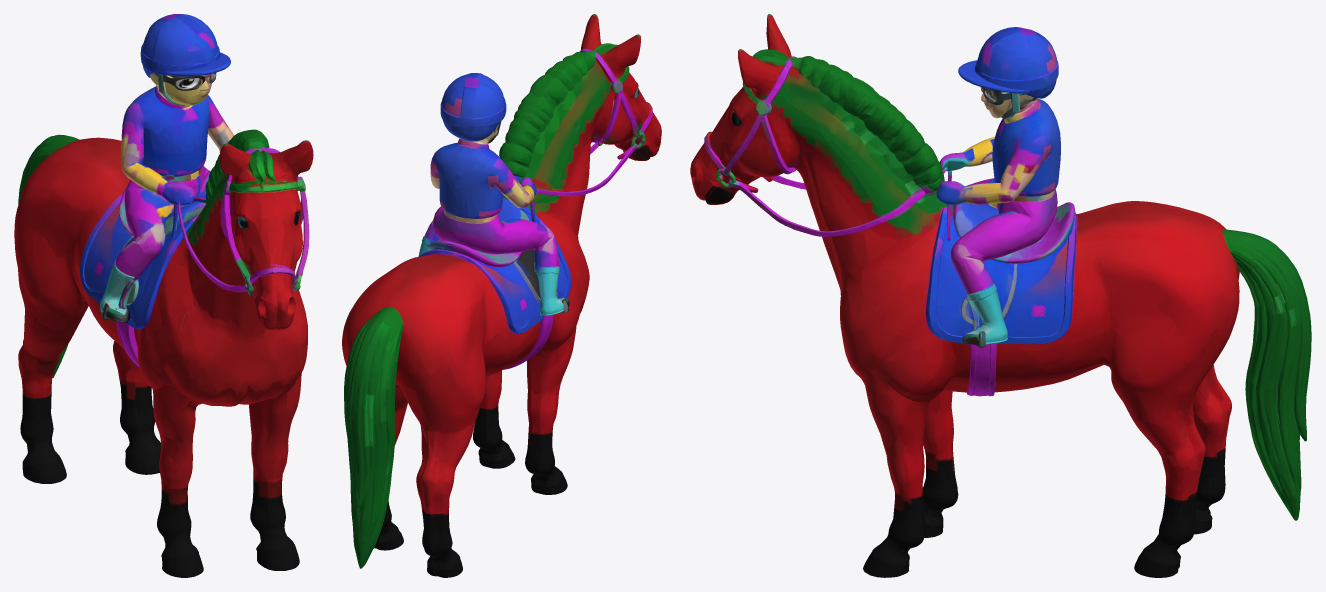
The model's file is meshy-robusto-chamas.glb.
3 views of the same model, side by side, from view 1: azimuth 30°, elevation 25°; view 2: azimuth 150°, elevation 25°; view 3: azimuth 270°, elevation 25° (orthographic). The views are drawn at different scales.
Size of the model in its own units: 0.6621 by 1.76 by 1.9.
1 material, 1 textured.
